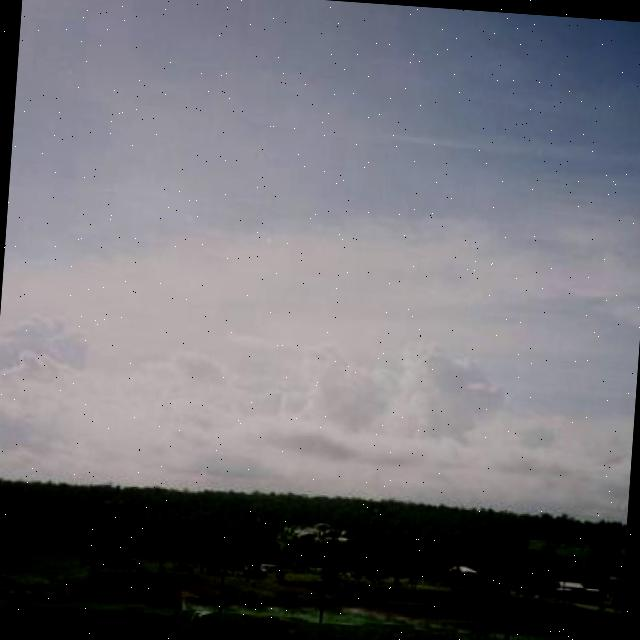St: (1, 44, 640, 469)
